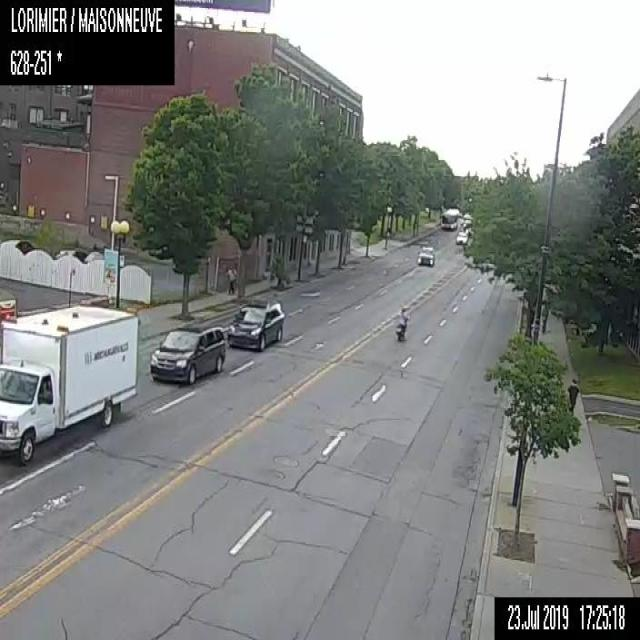bus: (440, 207, 459, 230)
pedestrian: (566, 377, 578, 414), (226, 266, 235, 294), (541, 301, 547, 330)
vehicle: (0, 302, 137, 464), (147, 324, 225, 381), (226, 299, 283, 350), (1, 238, 34, 254), (395, 305, 407, 339), (416, 244, 434, 265), (455, 230, 467, 244)
